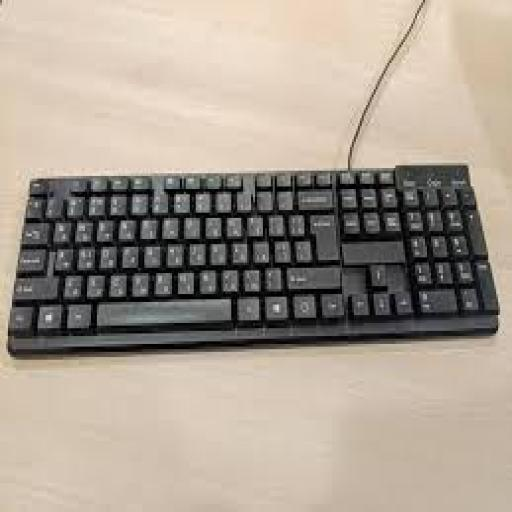KEYBOARD-2: (8, 163, 498, 354)
